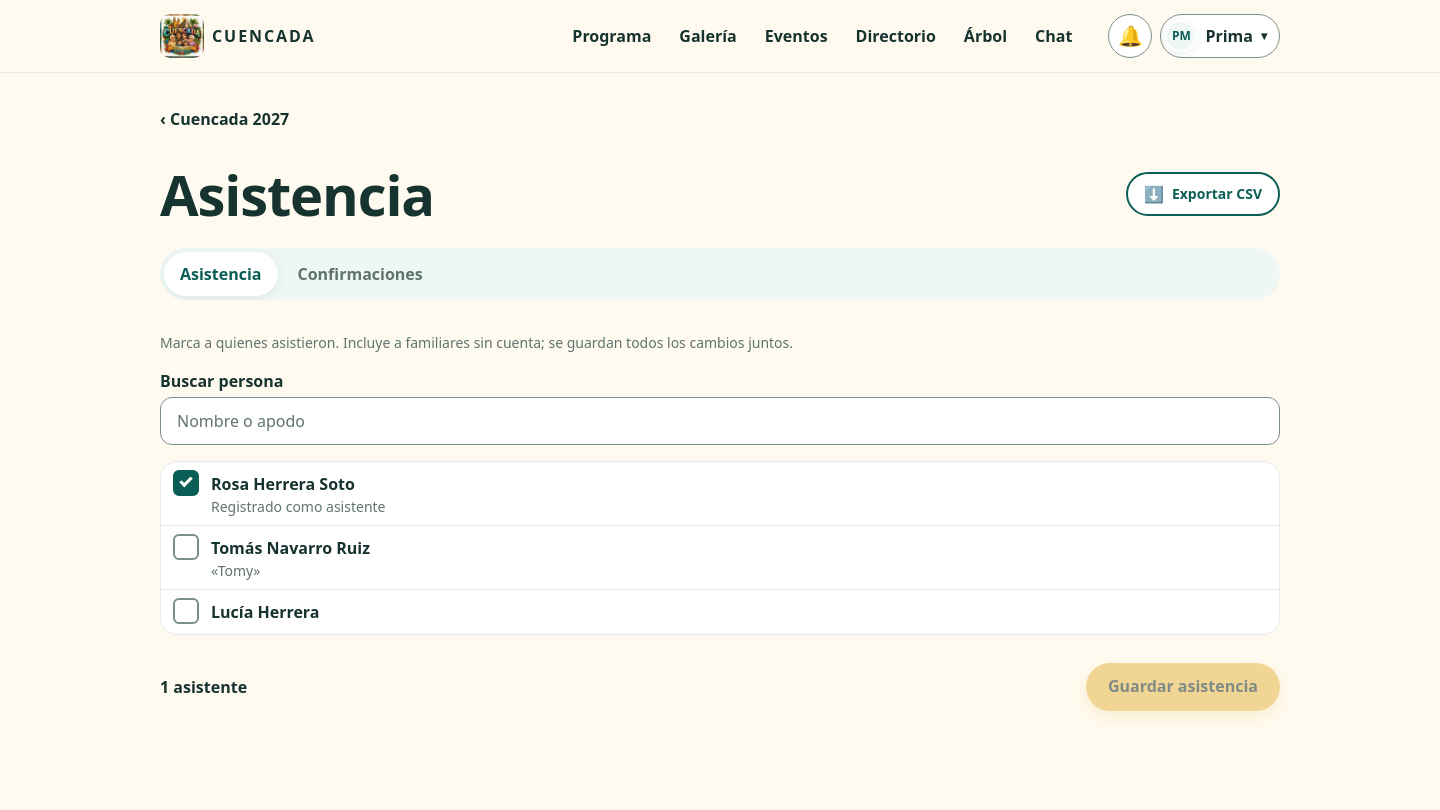
Test: AdminAttendancePage › saves the checklist as one replace-set PUT
Check: the heading "Asistencia" is shown, box [160,165,434,224]
Check: the checkbox labelled "Tomás Navarro Ruiz" is not checked, box [173,534,199,560]
Click the checkbox labelled "Rosa Herrera Soto".
click(186, 483)  # box [173,470,199,496]
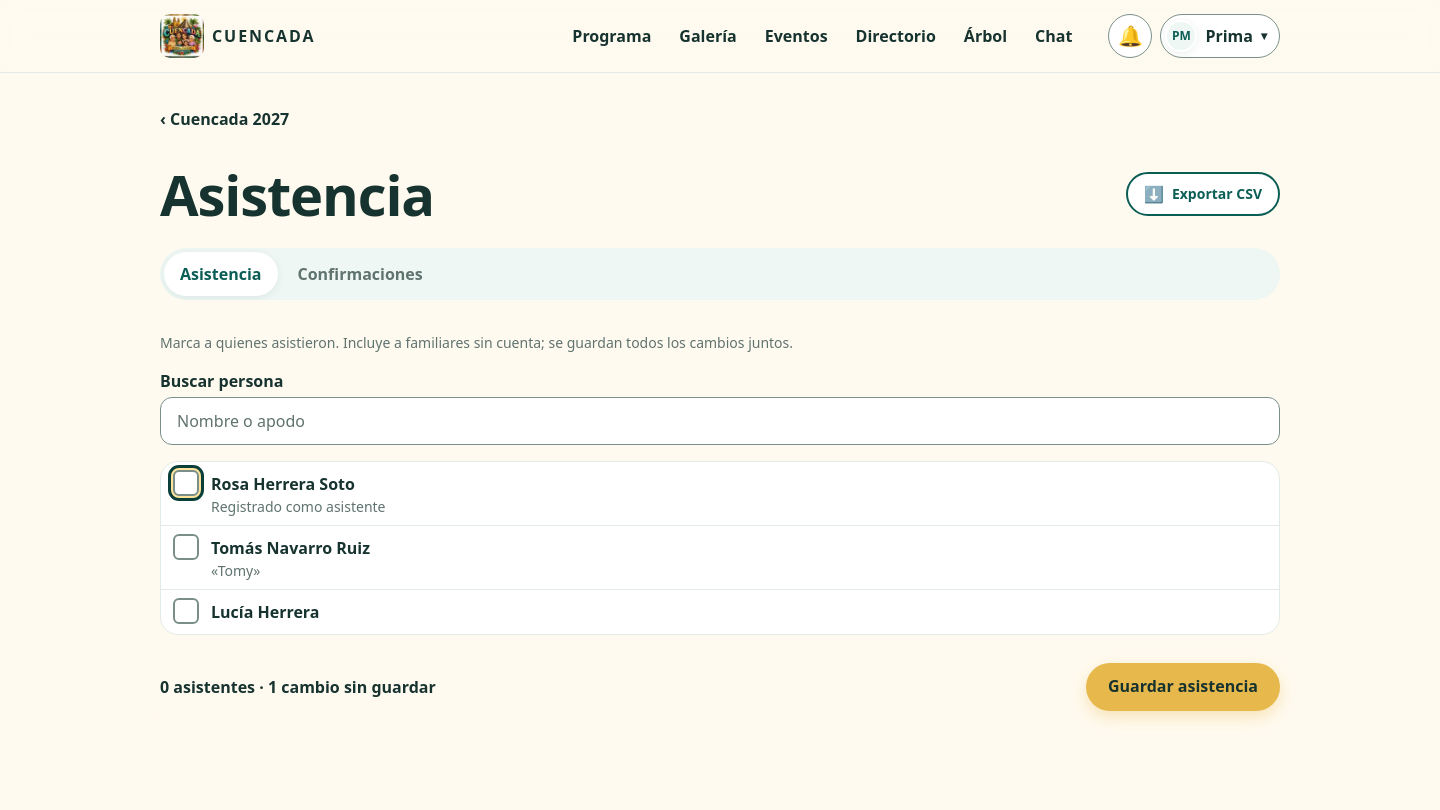
Click the checkbox labelled "Tomás Navarro Ruiz".
click(186, 547)  # box [173,534,199,560]
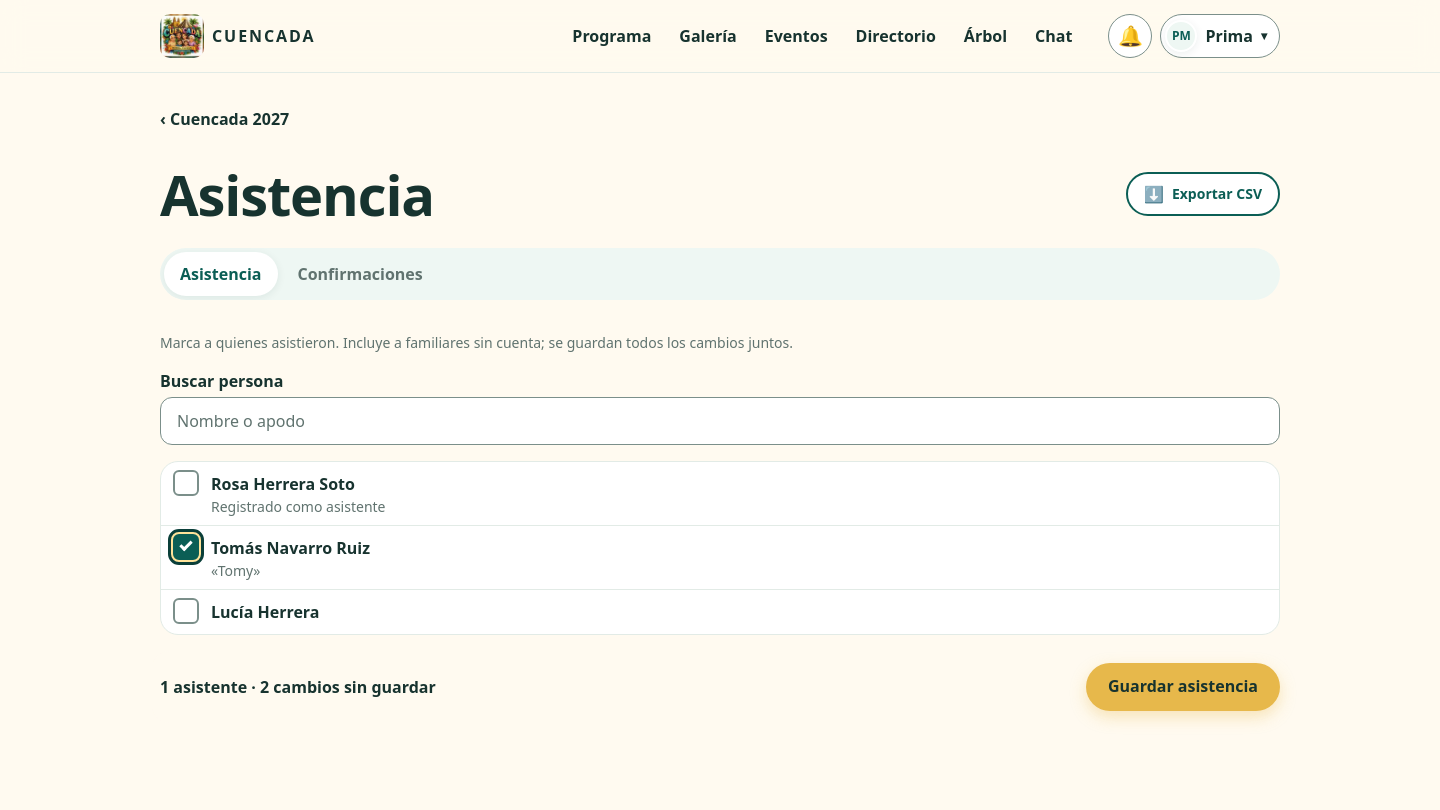
Check: the text "1 asistente · 2 cambios sin guardar" is shown, box [160,675,436,699]
Click the button "Guardar asistencia".
click(1183, 687)  # box [1086,663,1280,711]
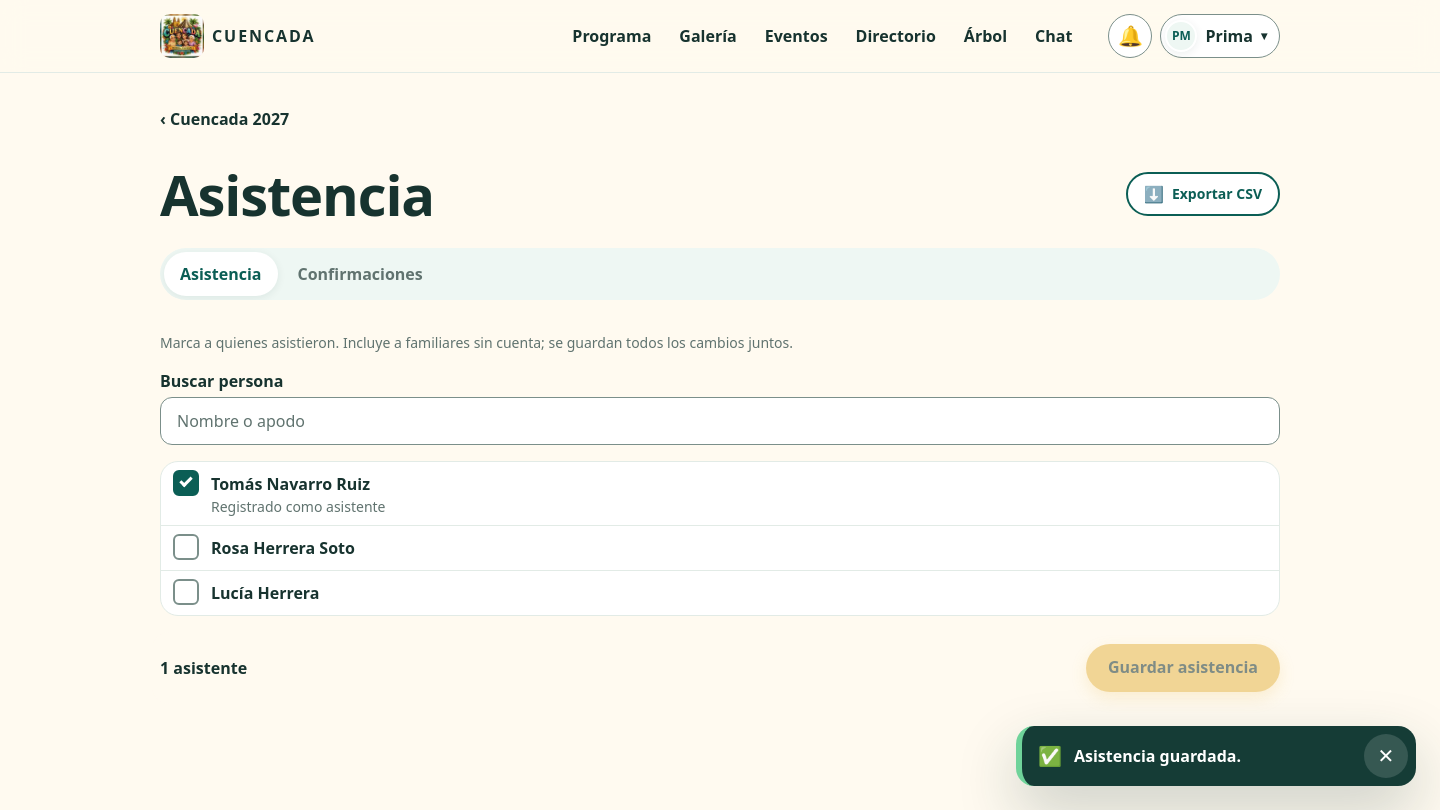
Check: the checkbox labelled "Tomás Navarro Ruiz" is checked, box [173,470,199,496]
Check: the checkbox labelled "Rosa Herrera Soto" is not checked, box [173,534,199,560]
Check: the text "Asistencia guardada." is shown, box [1074,745,1241,767]
